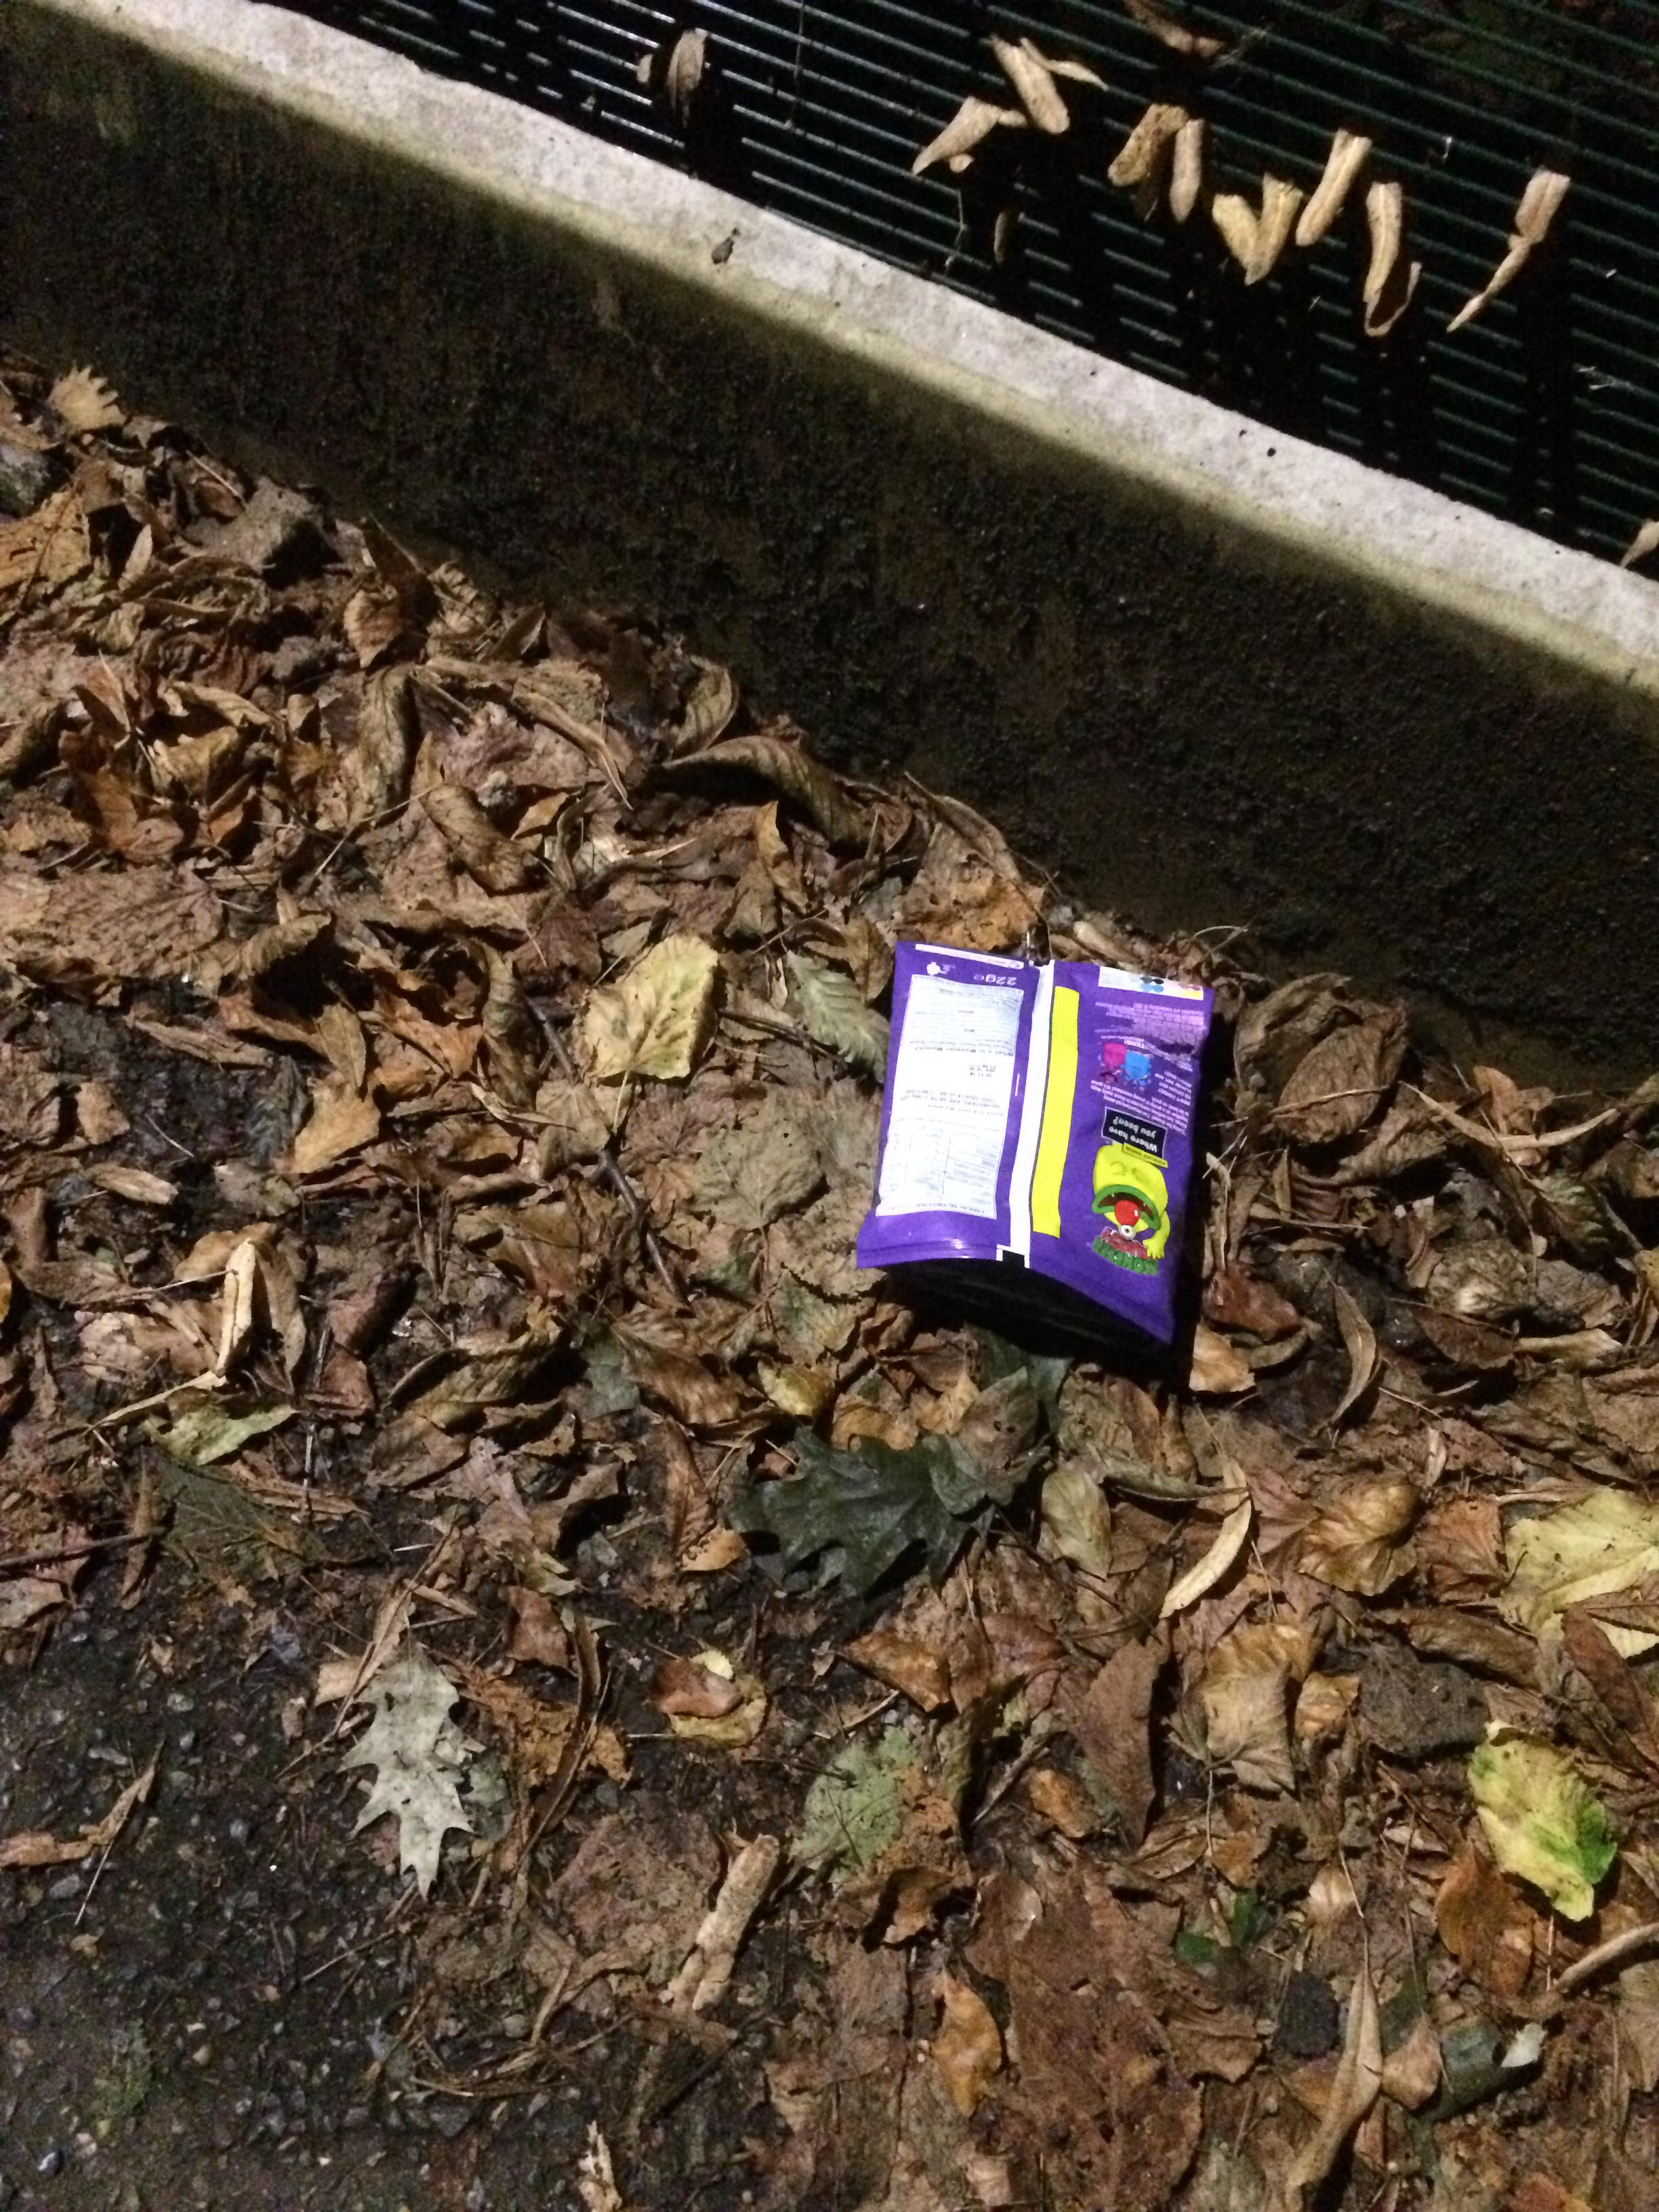Trash: (845, 925, 1222, 1390)
